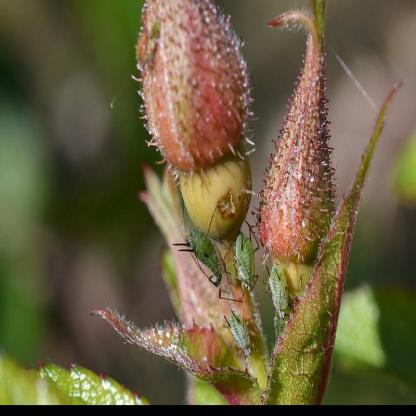aphid: (176, 215, 232, 298), (227, 218, 266, 297), (265, 256, 294, 320), (219, 312, 258, 356)
